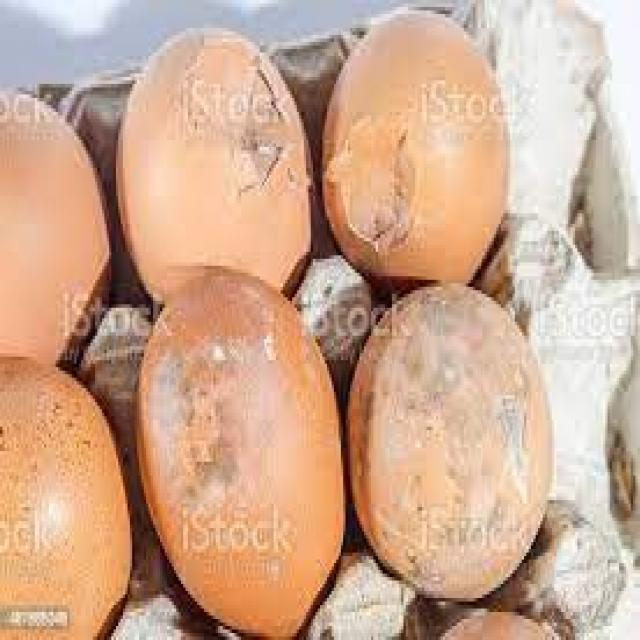biodegradable: (128, 257, 353, 640), (342, 264, 560, 602), (112, 19, 322, 335), (315, 0, 519, 297), (0, 342, 134, 640)
